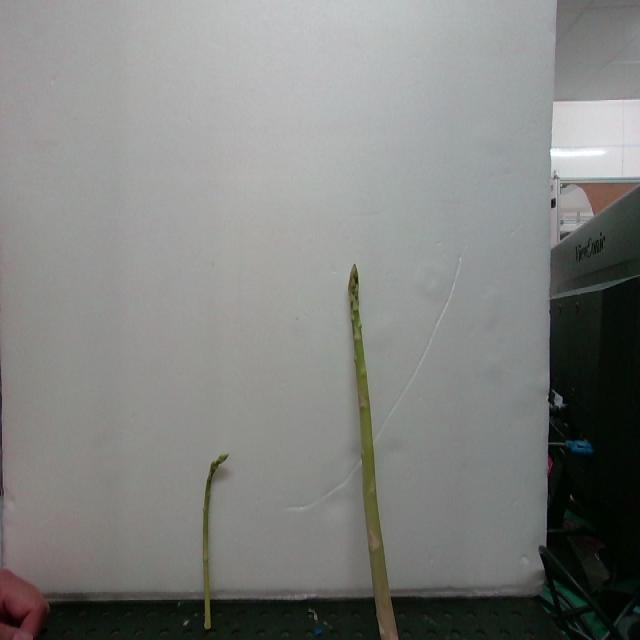aspargus: (345, 266, 396, 640), (198, 457, 228, 630)
